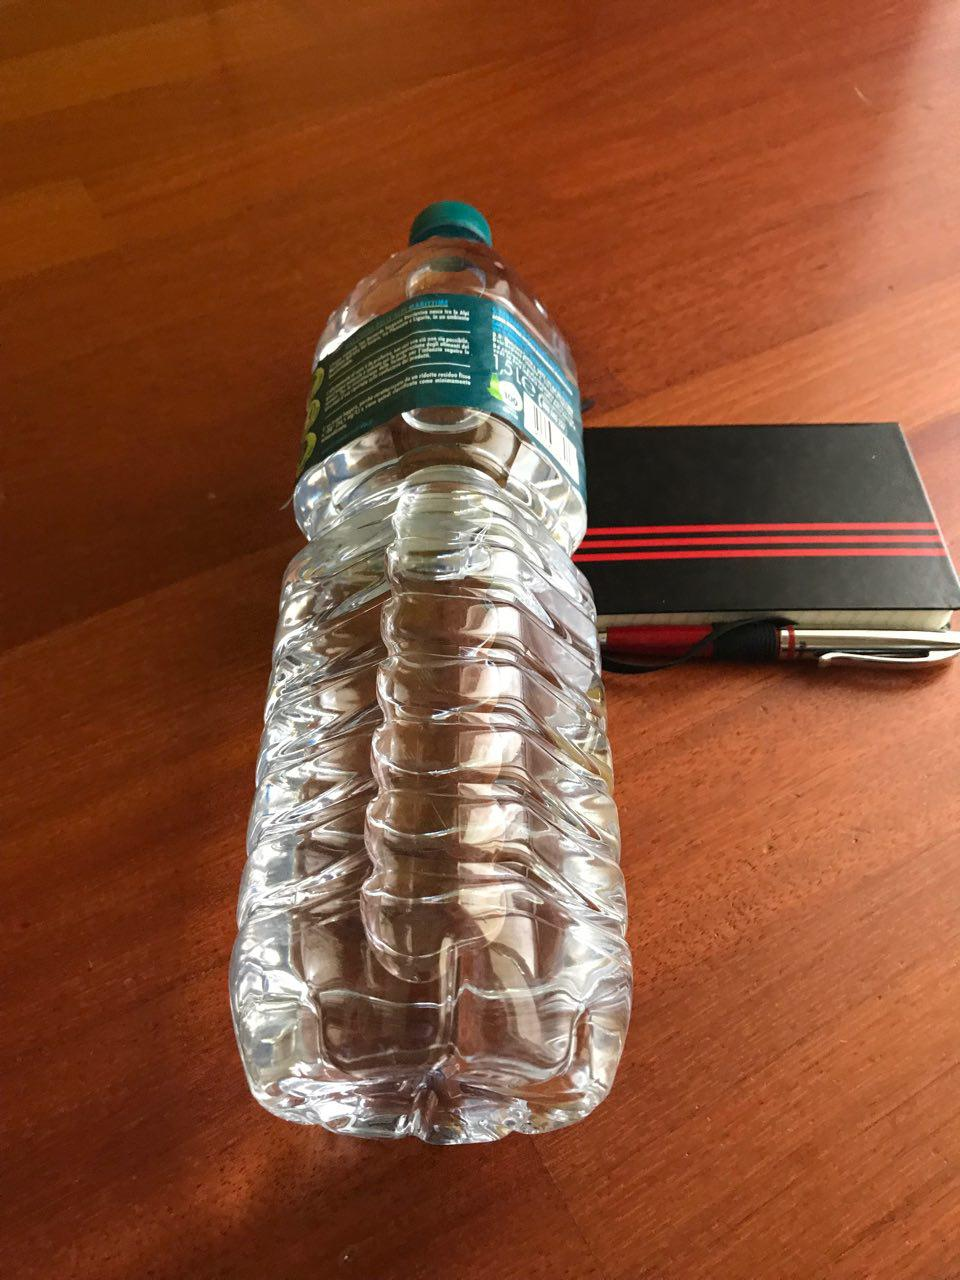san_bernardo: (221, 198, 637, 1152)
